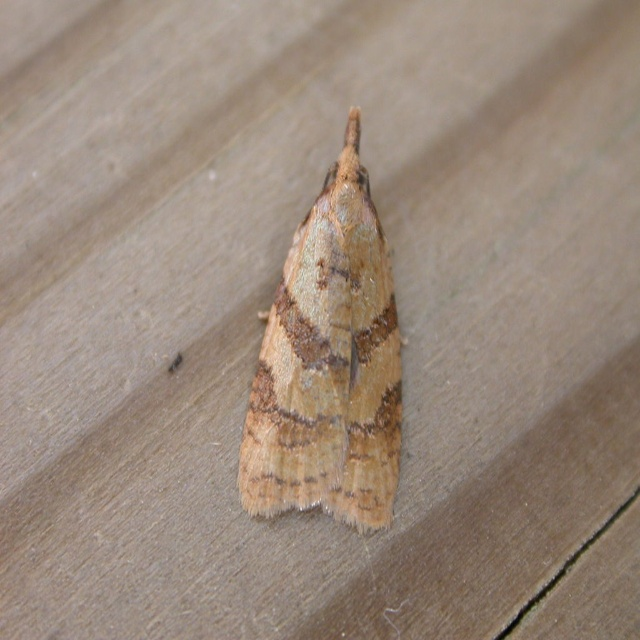Moths and butterflies: (233, 101, 402, 535)
